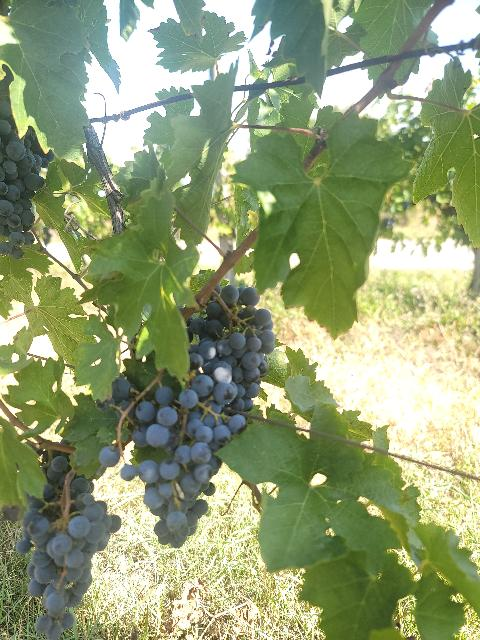grapes: (122, 371, 246, 549), (18, 478, 121, 640), (188, 285, 275, 411), (0, 75, 55, 260)
